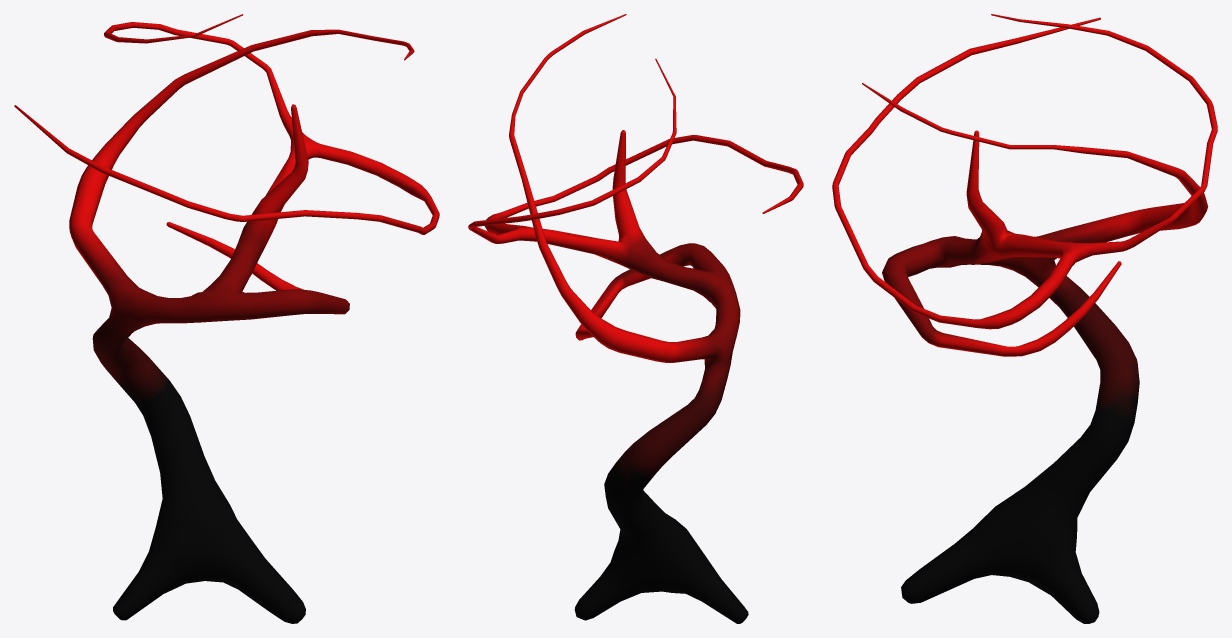
File: tree2.fbx
The picture shows the model from 3 angles, left to right: view 1: azimuth 30°, elevation 25°; view 2: azimuth 150°, elevation 25°; view 3: azimuth 270°, elevation 25°; orthographic projection. The views are drawn at different scales.
Parts seen in each view (by area): view 1: Cube; view 2: Cube; view 3: Cube.
Boxes of the visible parts, x1=… form: Cube: x1=14, y1=14, x2=439, y2=623; Cube: x1=468, y1=14, x2=803, y2=623; Cube: x1=832, y1=14, x2=1217, y2=623.
Size of the model in its own units: 93.71 by 149 by 87.62.
